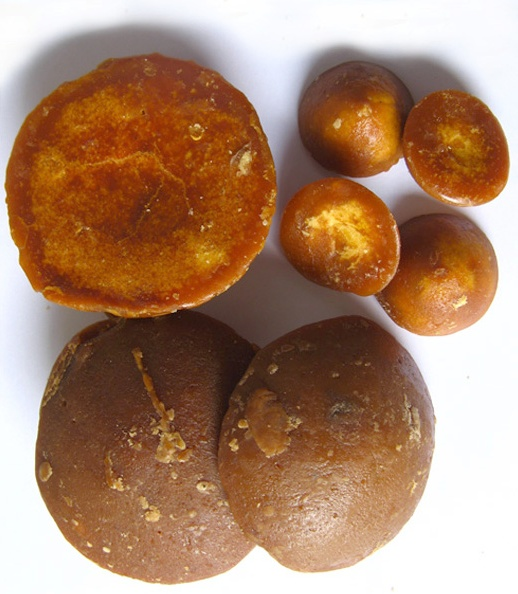hakuru: (5, 49, 279, 319), (34, 308, 271, 585), (217, 314, 437, 578), (282, 178, 403, 297), (384, 211, 496, 336), (297, 57, 408, 176), (405, 89, 507, 206)
